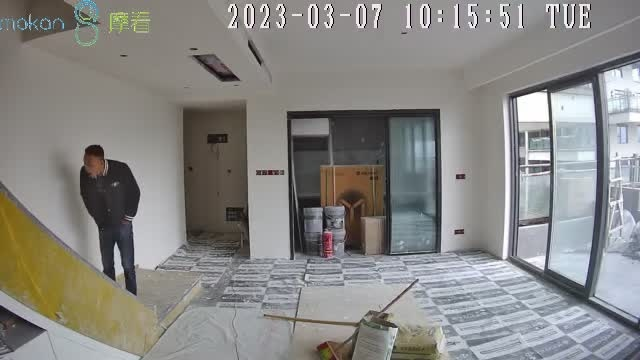people: (79, 144, 143, 299)
window: (504, 55, 640, 323)
